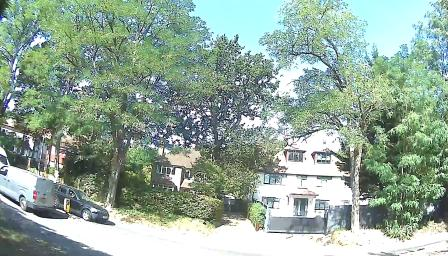Cars: (46, 168, 126, 223), (1, 168, 54, 212), (0, 148, 26, 180)
